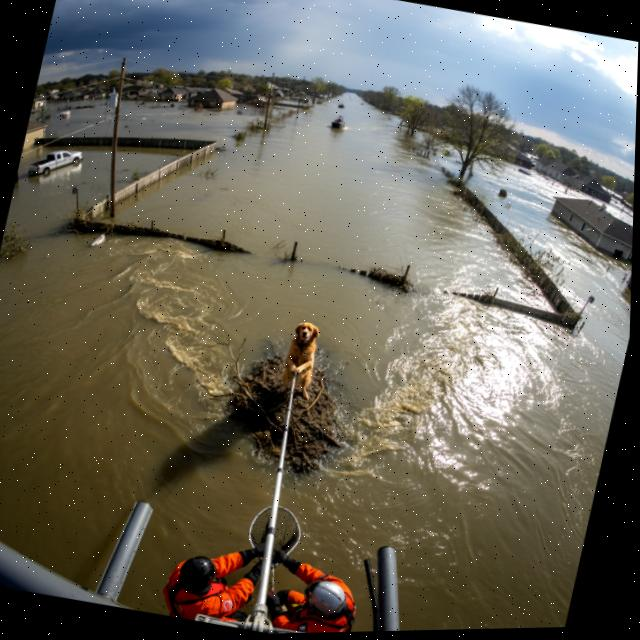dog: (269, 308, 336, 408)
rescuer: (155, 525, 277, 634), (254, 544, 376, 634)
